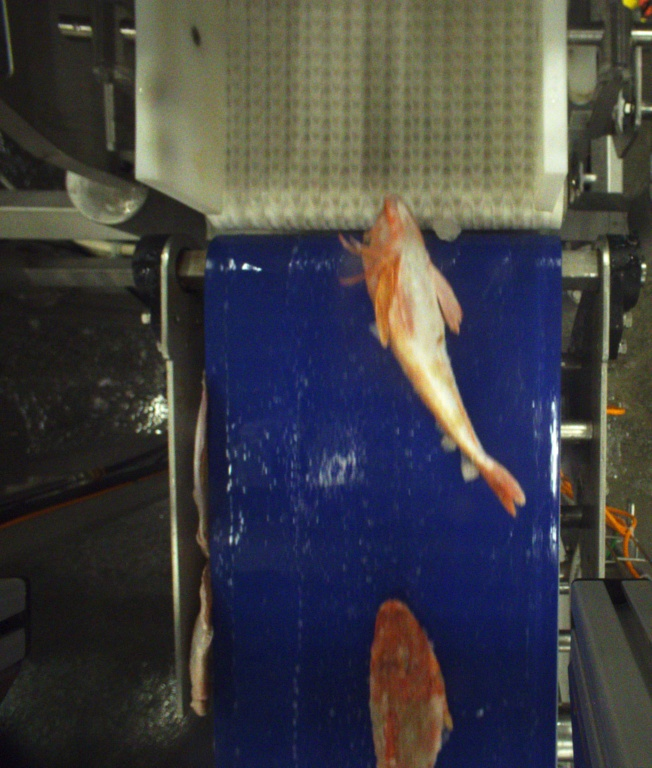GUU: (339, 191, 527, 517)
